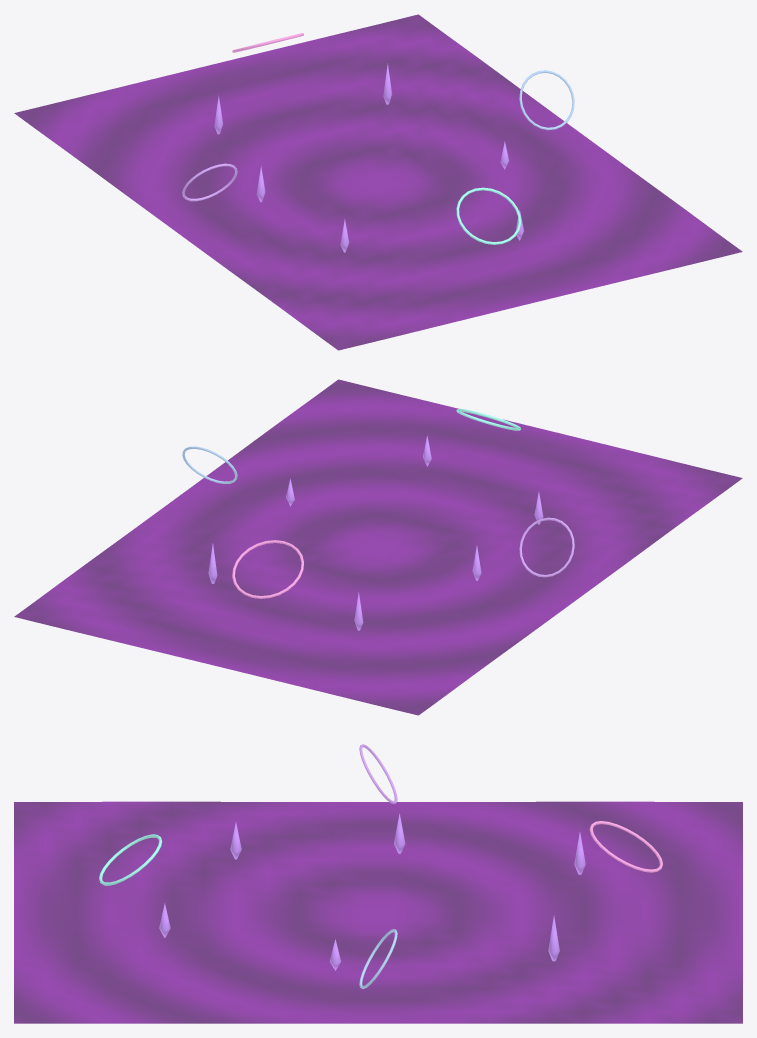
File: env_lod1.glb
3 views of the same model, one above another, from view 1: azimuth 30°, elevation 25°; view 2: azimuth 150°, elevation 25°; view 3: azimuth 270°, elevation 25° (orthographic). The views are drawn at different scales.
Visible parts, largest first — view 1: quantum_floor, quantum_structures; view 2: quantum_floor, quantum_structures; view 3: quantum_floor, quantum_structures.
Part boxes in pixels (x1,y1,x2,y2): quantum_floor: (14,14,742,350); quantum_structures: (182,33,574,252); quantum_floor: (14,379,742,715); quantum_structures: (182,408,574,630); quantum_floor: (14,801,742,1023); quantum_structures: (99,744,662,988).
Size of the model in its own units: 72 by 13.55 by 100.
